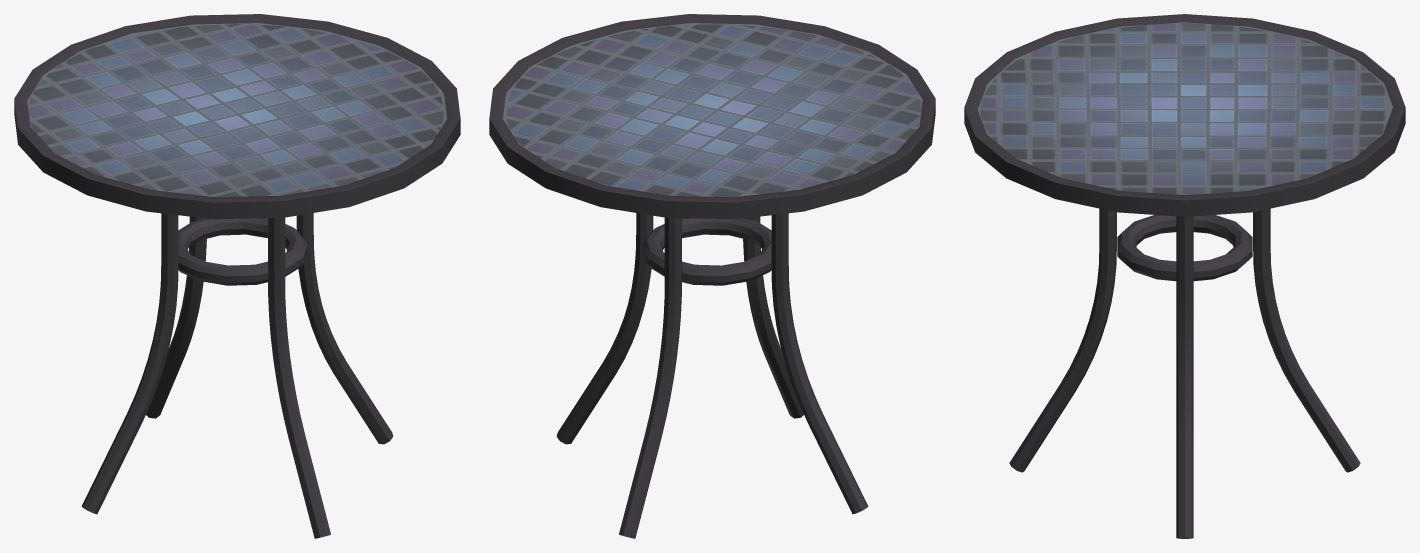
Rendered from MosaicTable by Rose.fbx.
3 renders of one model, left to right at view 1: azimuth 30°, elevation 25°; view 2: azimuth 150°, elevation 25°; view 3: azimuth 270°, elevation 25°, orthographic.
Visible parts, largest first — view 1: TableTop, Leg, Leg3, Torus, Leg1, Leg2; view 2: TableTop, Leg2, Leg3, Torus, Leg1, Leg; view 3: TableTop, Leg1, Leg2, Leg, Torus.
Boxes of the visible parts, bbox=[...] form: TableTop: bbox=[14, 14, 460, 219]; Leg: bbox=[268, 217, 330, 538]; Leg3: bbox=[81, 213, 178, 514]; Torus: bbox=[178, 218, 307, 285]; Leg1: bbox=[296, 213, 393, 444]; Leg2: bbox=[146, 216, 206, 418]; TableTop: bbox=[489, 14, 935, 219]; Leg2: bbox=[619, 217, 681, 538]; Leg3: bbox=[771, 213, 868, 514]; Torus: bbox=[642, 218, 771, 285]; Leg1: bbox=[556, 213, 653, 444]; Leg: bbox=[743, 216, 803, 418]; TableTop: bbox=[964, 14, 1405, 216]; Leg1: bbox=[1176, 216, 1193, 538]; Leg2: bbox=[1253, 208, 1360, 472]; Leg: bbox=[1009, 208, 1116, 472]; Torus: bbox=[1117, 215, 1252, 281].
Size of the model in its own units: 2 by 1.82 by 2.
